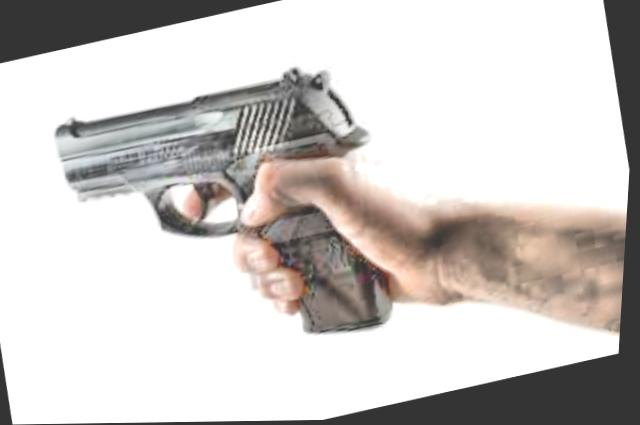pistol: (29, 46, 419, 392)
